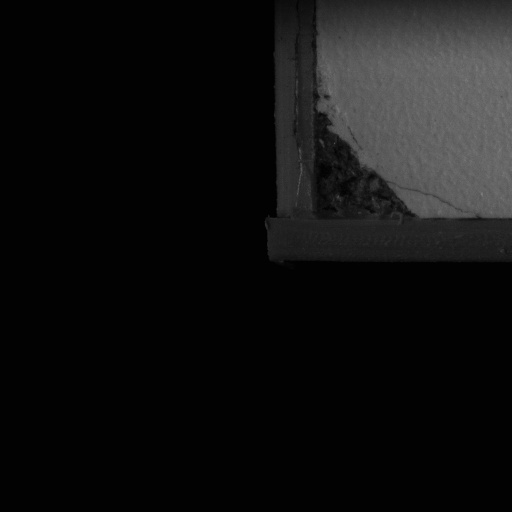bengque: (307, 103, 427, 229)
